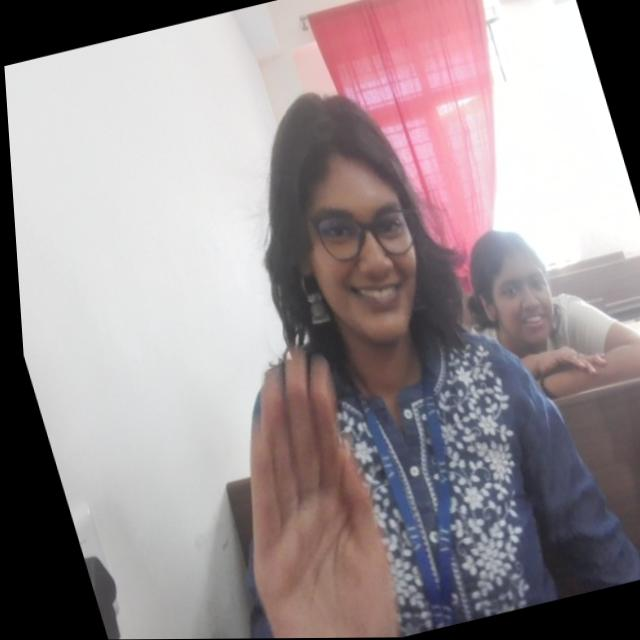hello: (184, 339, 401, 639)
